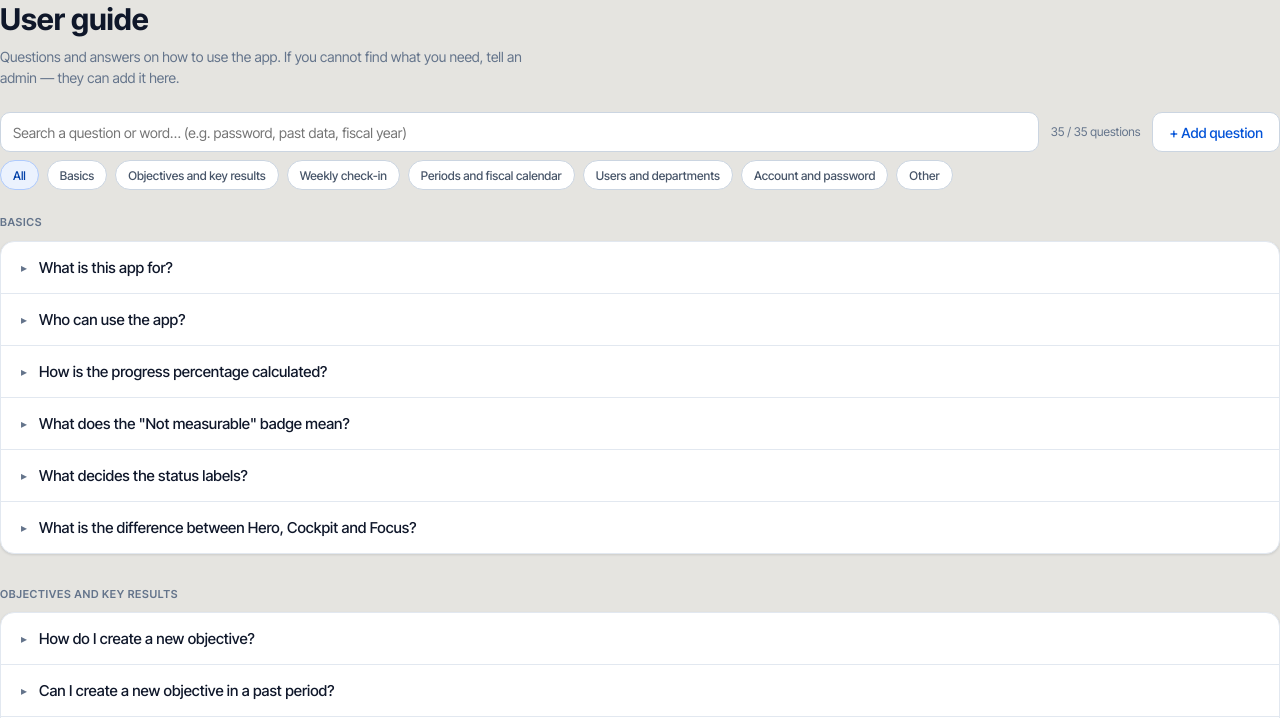
Test case: English search finds English text, and a Turkish term still matches
Replace the text in the field named "Search the guide" with "forgot password" at coordinates (519, 132), box [0,112,1039,152]
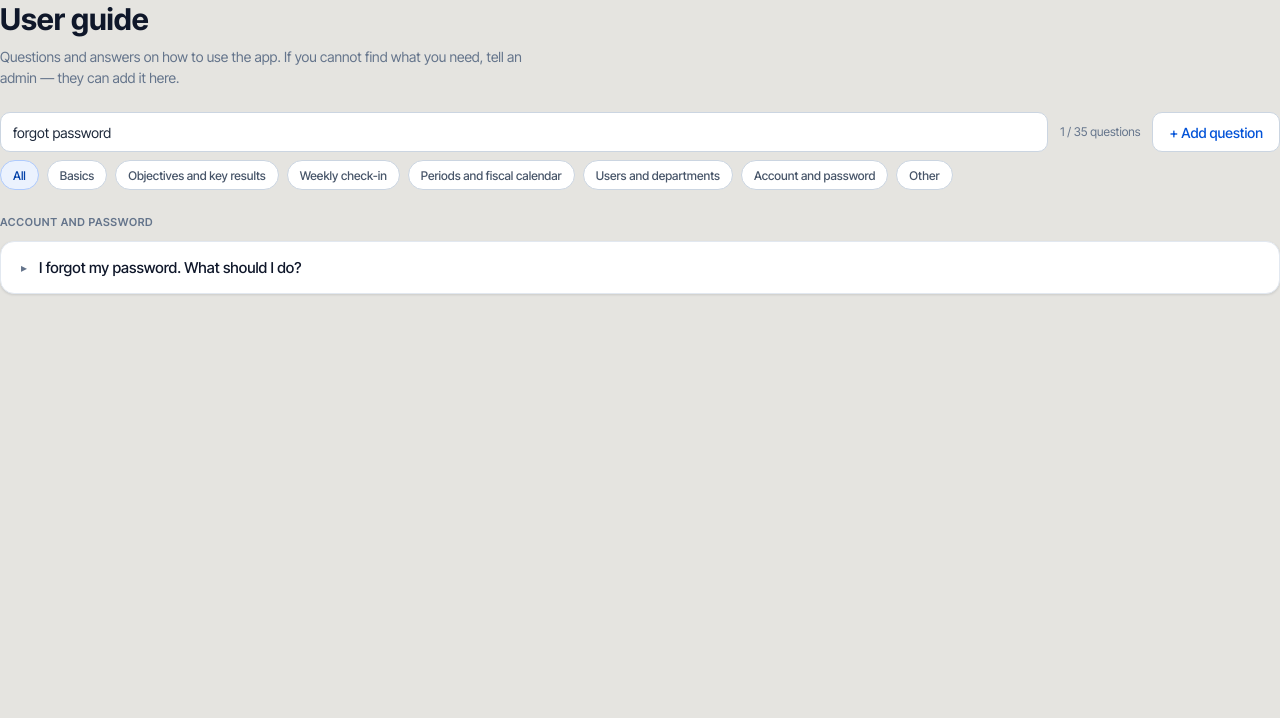
Check: the text "I forgot my password. What should I do?" is shown, box [39,258,302,276]
Replace the text in the field named "Search the guide" with "parolamı unuttum" at coordinates (524, 132), box [0,112,1048,152]
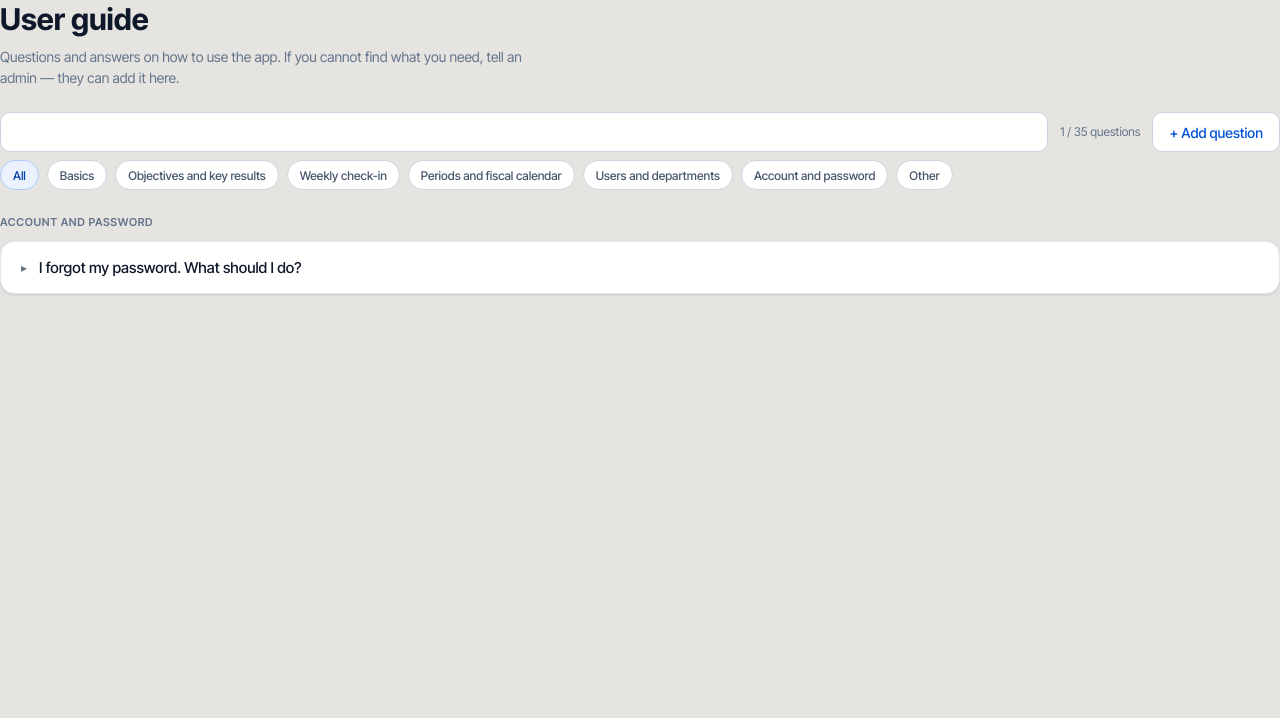
Check: the text "I forgot my password. What should I do?" is shown, box [39,258,302,276]
Replace the text in the field named "Search the guide" with "zzqx" at coordinates (524, 132), box [0,112,1048,152]
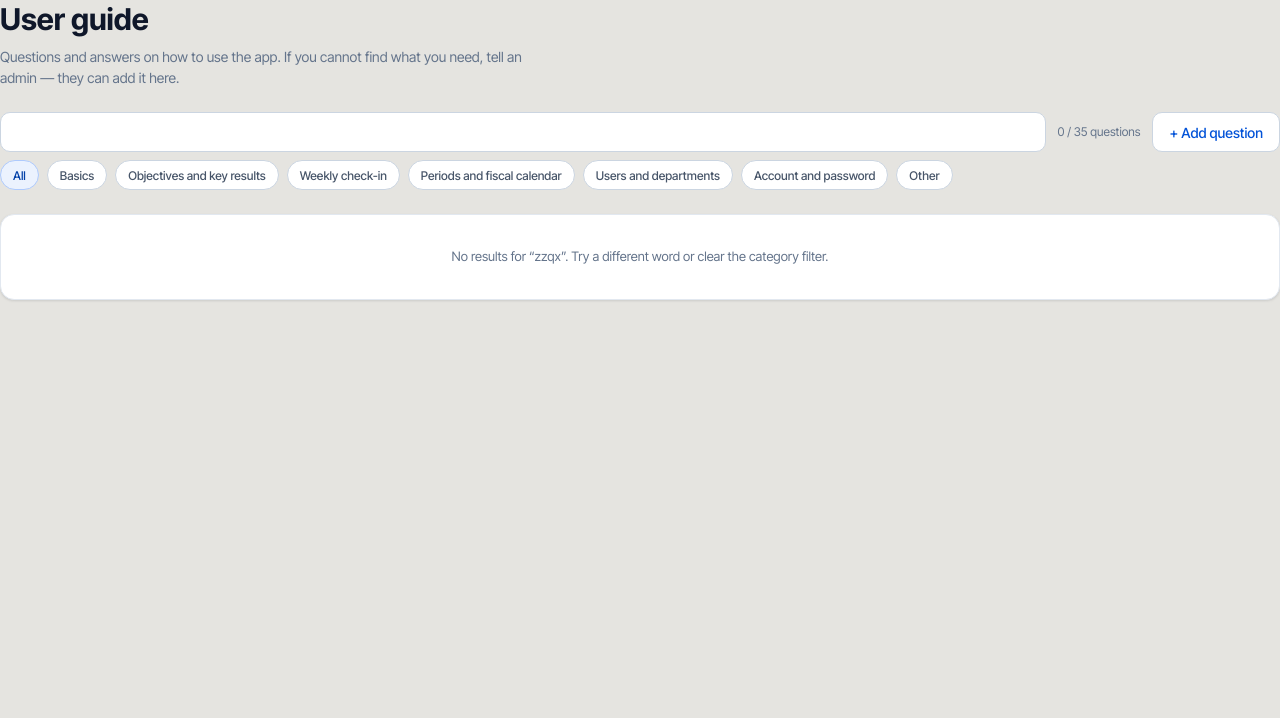
Check: the text "No results for “zzqx”" is shown, box [452,248,828,264]
